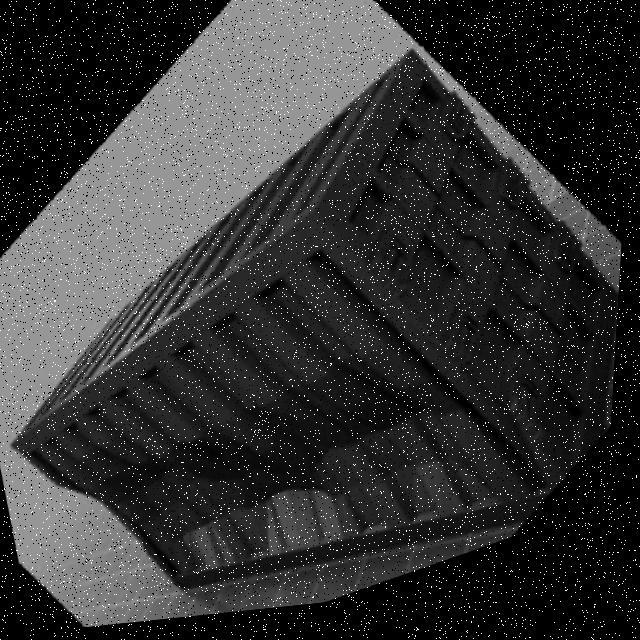dent: (3, 225, 578, 609)
